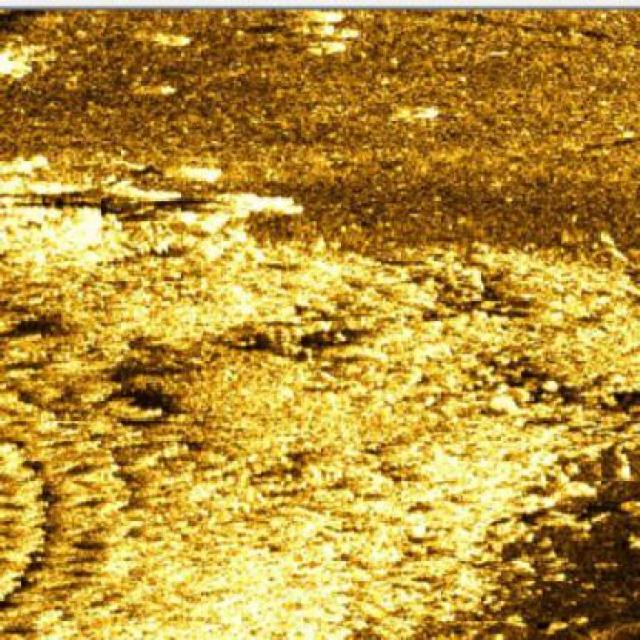bedrock group: (1, 160, 639, 638)
